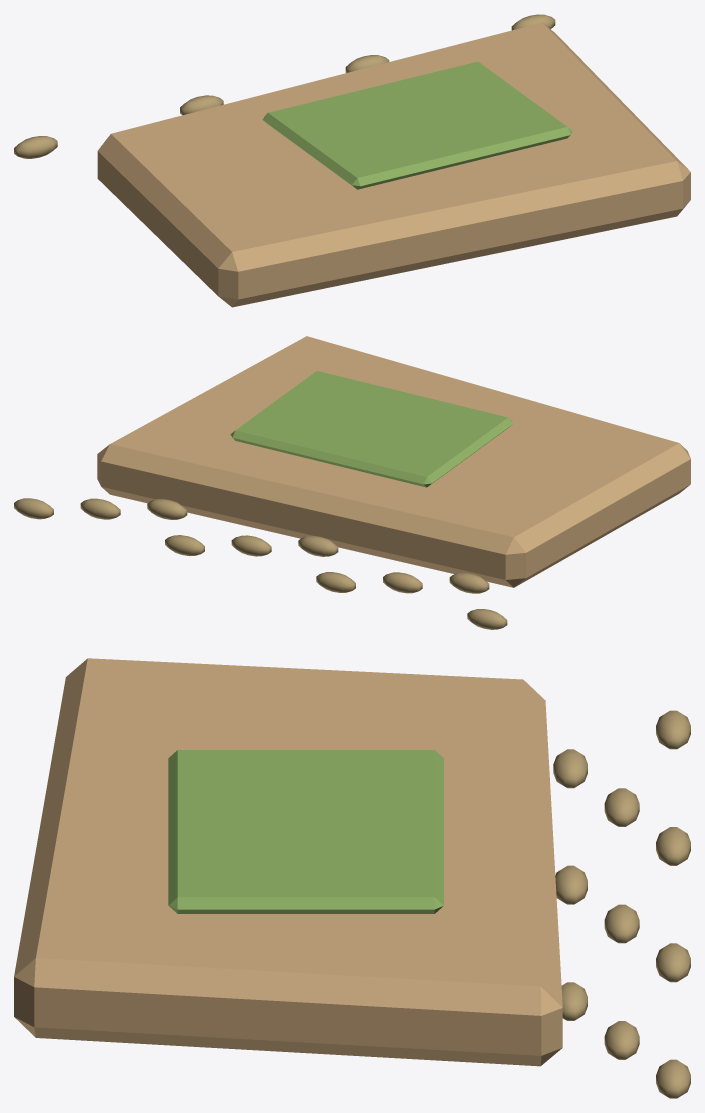
Rendered from item_seeds.glb.
3 renders of one model, top to bottom at view 1: azimuth 30°, elevation 25°; view 2: azimuth 150°, elevation 25°; view 3: azimuth 270°, elevation 25°, orthographic. The views are drawn at different scales.
Parts seen in each view (by area): view 1: item_seeds; view 2: item_seeds; view 3: item_seeds.
Boxes of the visible parts, x1,y1,x2,y2 form: item_seeds: [14, 14, 690, 307]; item_seeds: [14, 336, 690, 629]; item_seeds: [14, 658, 690, 1098].
Size of the model in its own units: 0.2434 by 0.0295 by 0.1843.
